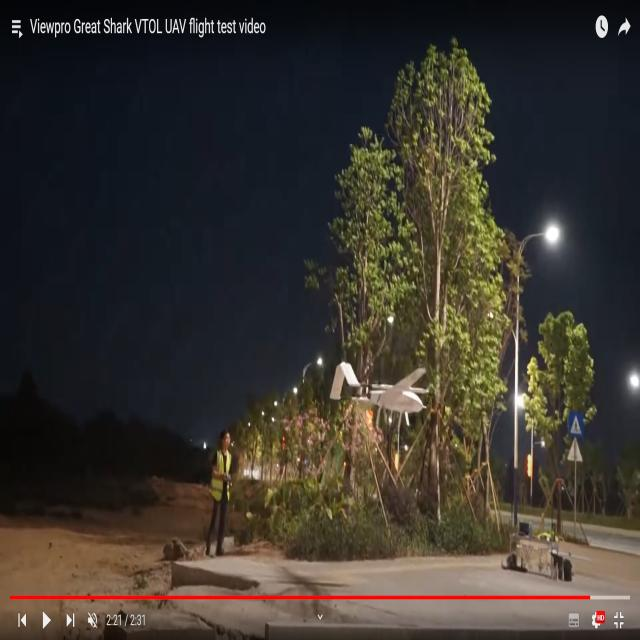iha: (361, 387, 398, 389)
